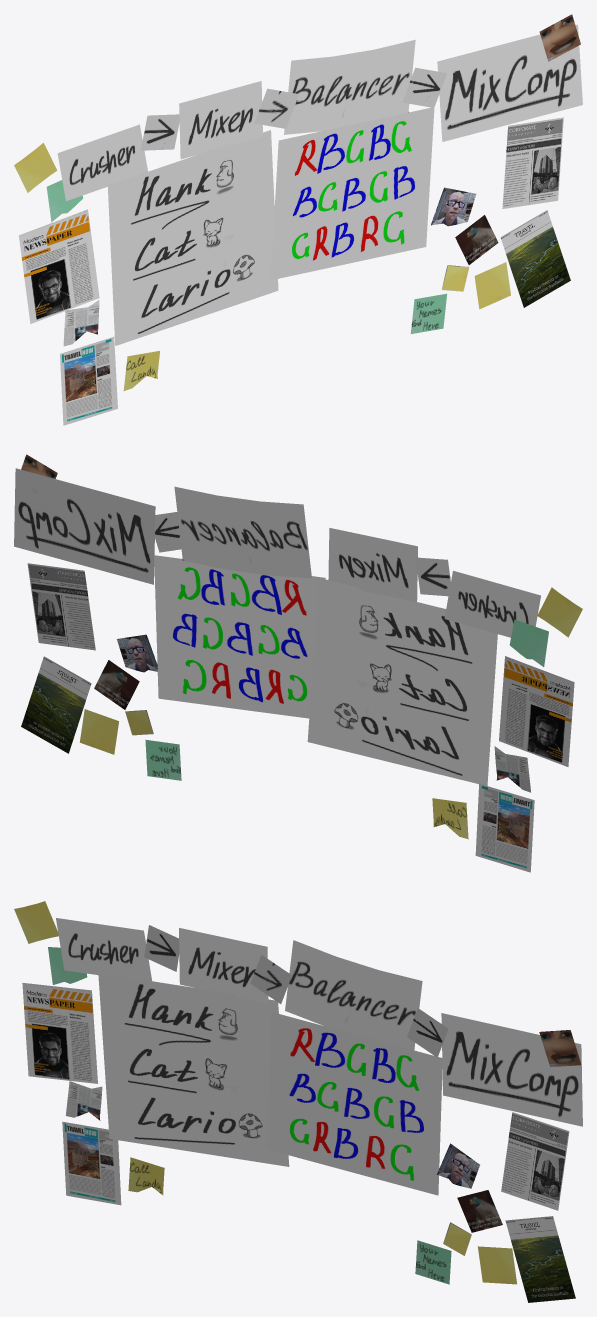
The model's file is Board Paper.fbx.
The picture shows the model from 3 angles, top to bottom: view 1: azimuth 30°, elevation 25°; view 2: azimuth 150°, elevation 25°; view 3: azimuth 330°, elevation 25°; orthographic projection.
Visible parts, largest first — view 1: Board Paper; view 2: Board Paper; view 3: Board Paper.
Part boxes in pixels (<box>): Board Paper: <box>14,14,582,425</box>; Board Paper: <box>14,454,582,872</box>; Board Paper: <box>14,901,582,1302</box>.
Size of the model in its own units: 1477 by 772 by 45.26.
Materials: 4 (4 with a texture image).
